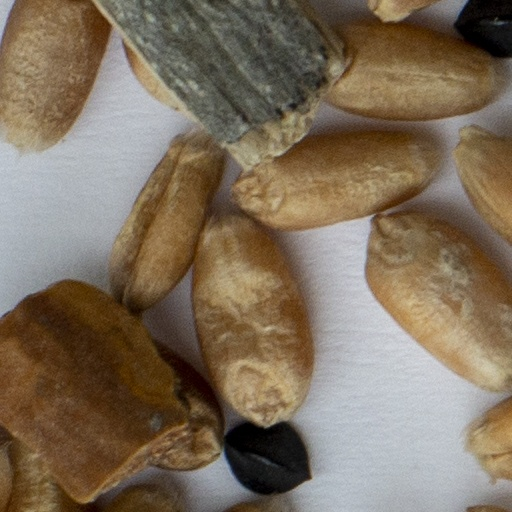Fallopia-Convolvulus-poly: (224, 422, 310, 492), (456, 0, 511, 56)
Peel-poly: (0, 281, 222, 492), (99, 0, 337, 157)
